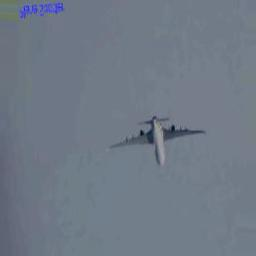Airplane: (107, 115, 206, 167)
